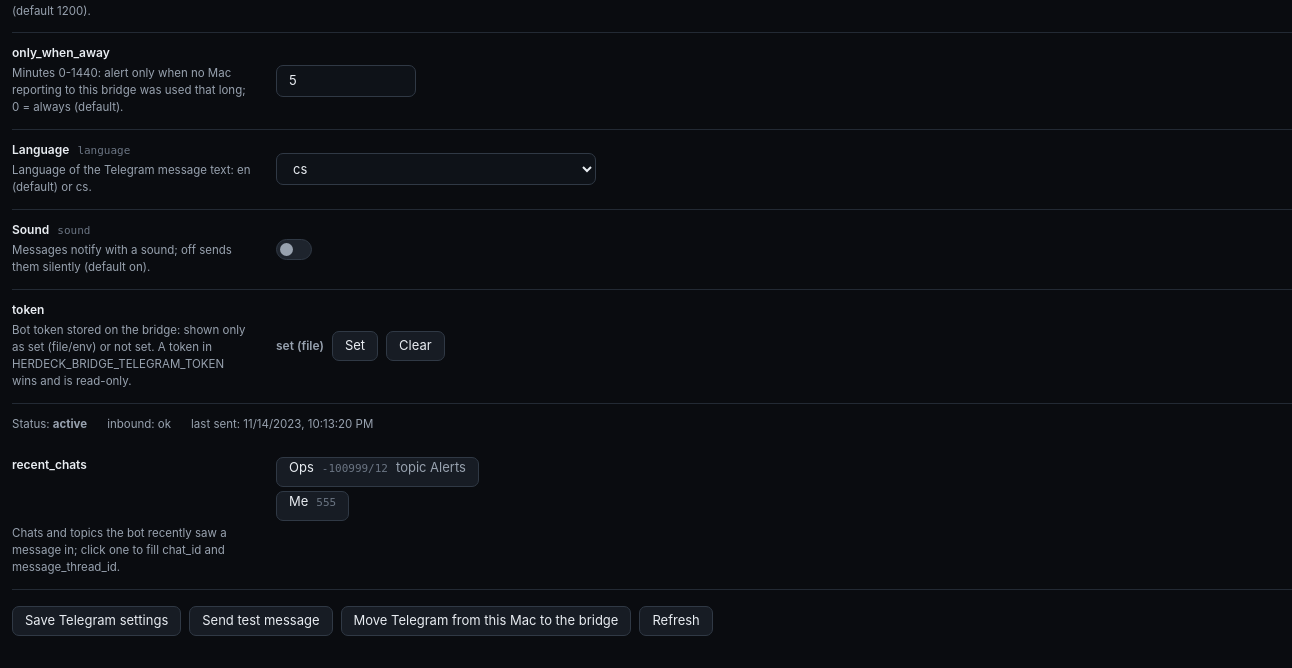
Test: move from this Mac › no_local_token tells the user to enter the token on the bridge
The width and height of the screenshot is (1292, 668).
(page scrolled)
Click the button "Move Telegram from this Mac to the bridge". click: (486, 621)
box: x1=340 y1=606 x2=631 y2=636
(page scrolled)
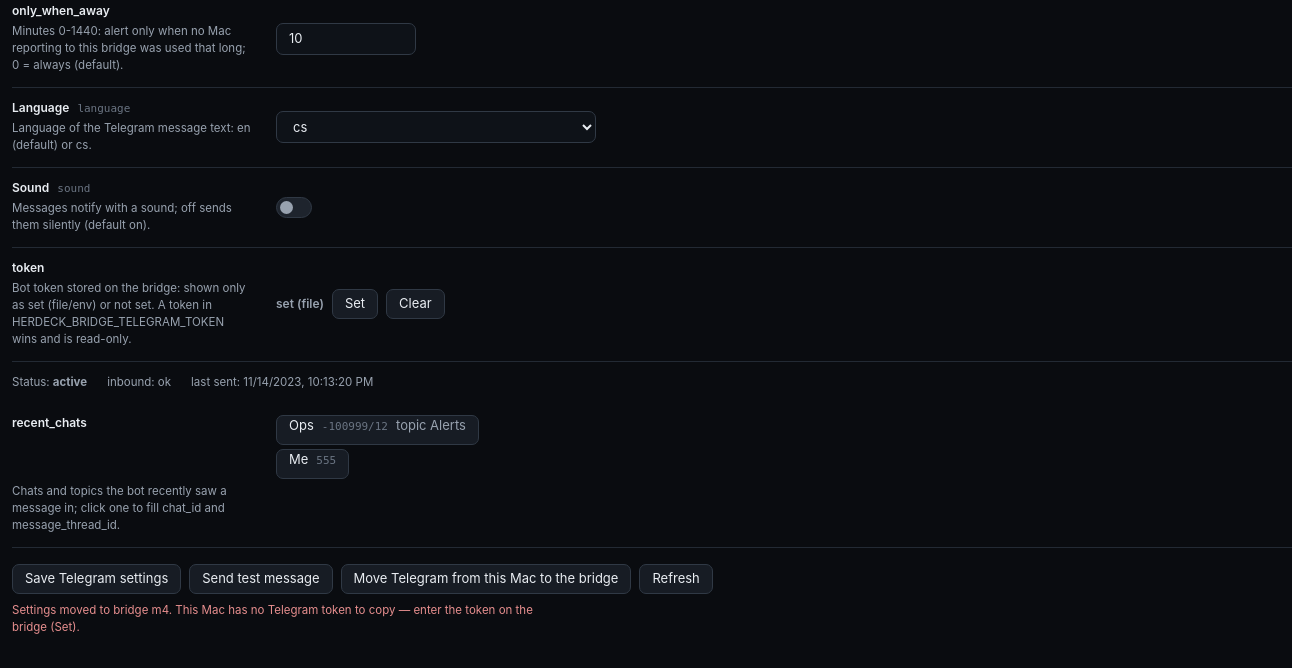
Expected: the message shows "enter the token on the bridge", x1=12 y1=603 x2=533 y2=634
